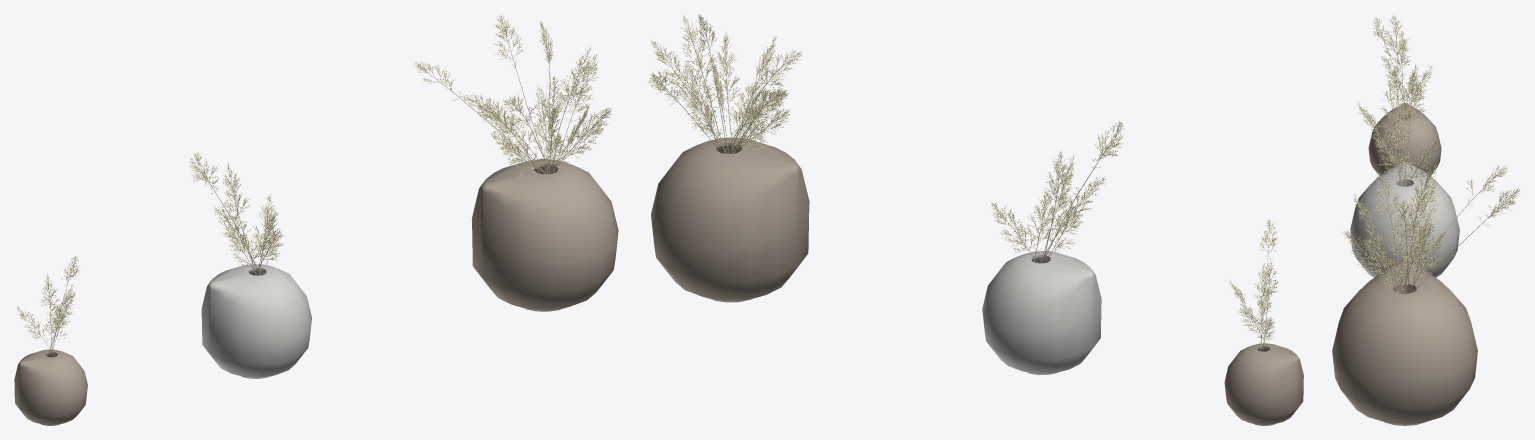
The picture shows the model from 3 angles, left to right: view 1: azimuth 30°, elevation 25°; view 2: azimuth 150°, elevation 25°; view 3: azimuth 270°, elevation 25°; orthographic projection. The views are drawn at different scales.
Parts seen in each view (by area): view 1: Vases_set_10; view 2: Vases_set_10; view 3: Vases_set_10.
Boxes of the visible parts, bbox=[...] form: Vases_set_10: bbox=[14, 14, 618, 425]; Vases_set_10: bbox=[647, 14, 1303, 425]; Vases_set_10: bbox=[1332, 15, 1520, 425].
Bounding box in the file's own units: 1.52 × 0.6477 × 0.4324.
